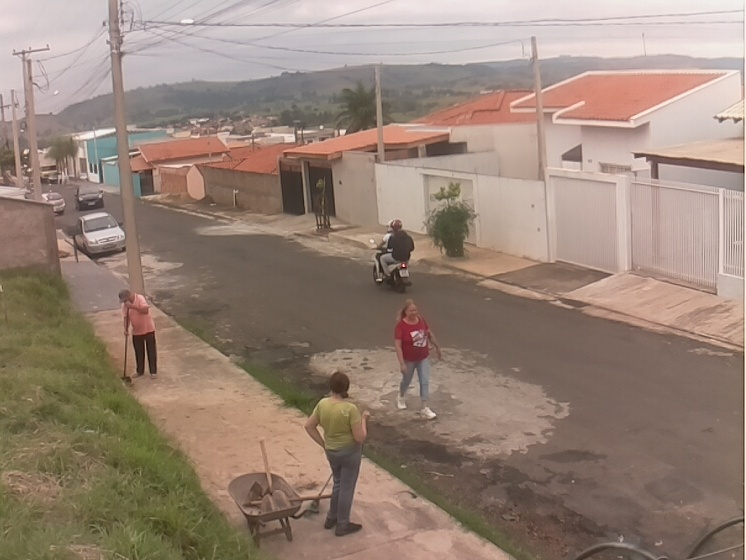person: (303, 370, 373, 537), (392, 298, 443, 420), (117, 288, 160, 380), (378, 219, 416, 284)
